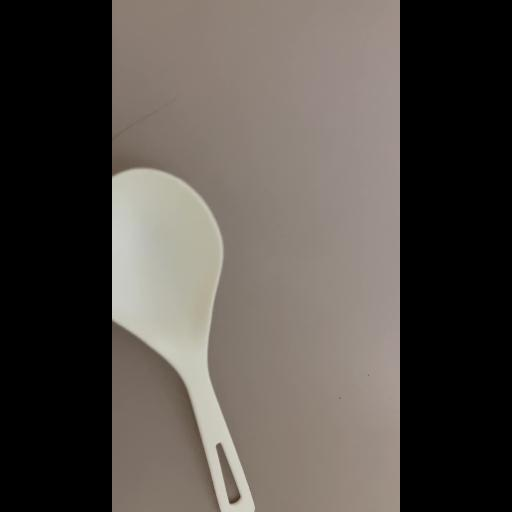utensil: (112, 166, 274, 512)
